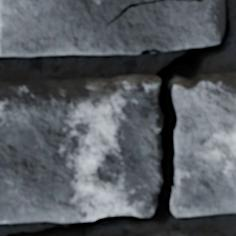brick: (0, 0, 223, 55), (124, 232, 221, 235)
broken_brick: (0, 73, 161, 224), (173, 72, 235, 217)
crack: (2, 0, 233, 235), (140, 48, 161, 54)
